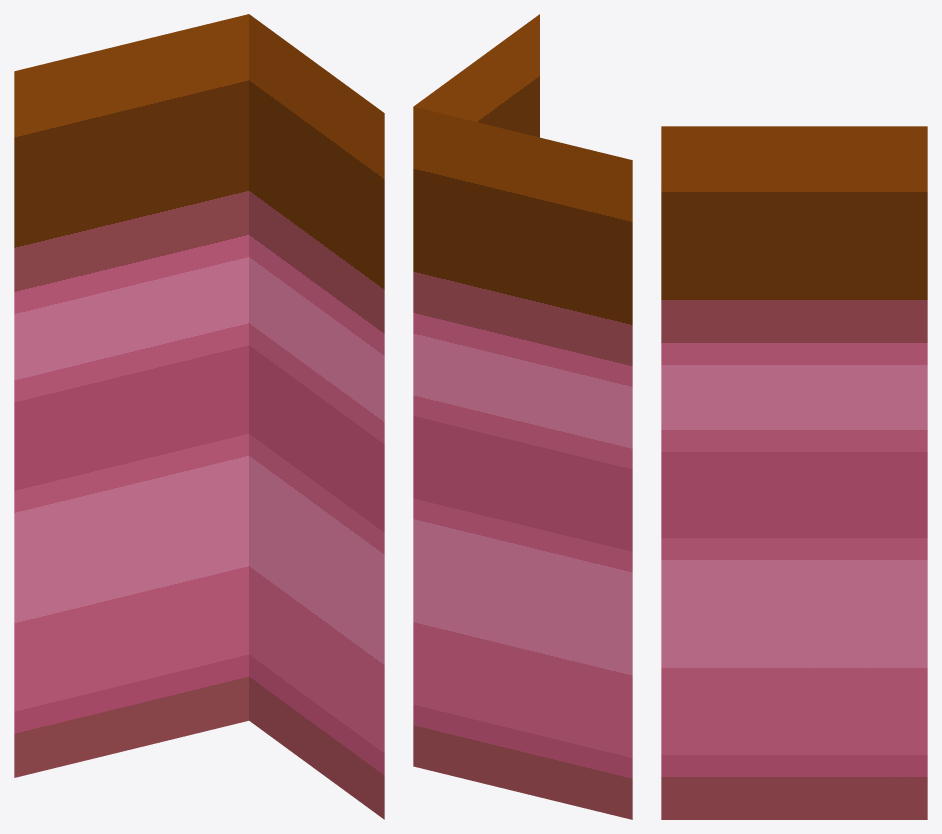
3 views of the same model, side by side, from view 1: azimuth 30°, elevation 25°; view 2: azimuth 150°, elevation 25°; view 3: azimuth 270°, elevation 25° (orthographic). The views are drawn at different scales.
Size of the model in its own units: 0.5 by 1.44 by 0.5.
Materials: 1 (1 with a texture image).
